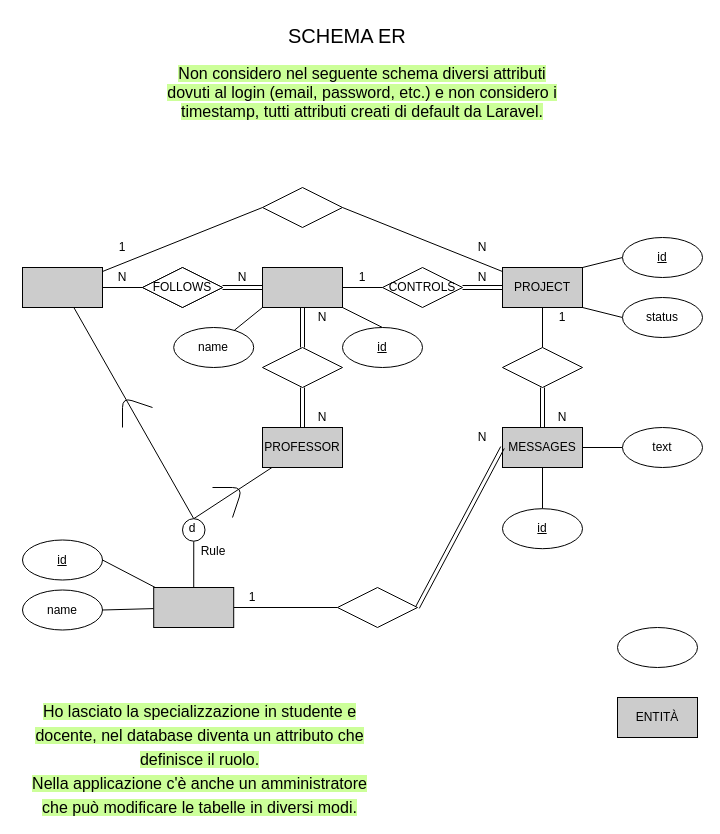
This 720x834 diagram has some shape labels left out. The centre of each missing label's shape, as x and y in pixels:
Attributo: point 657,647
COURSE: point 302,287
DEVELOPS: point 302,207
HAS: point 542,367
STUDENT: point 62,287
TEACHES: point 302,367
USER: point 193,607
WRITES: point 377,607
